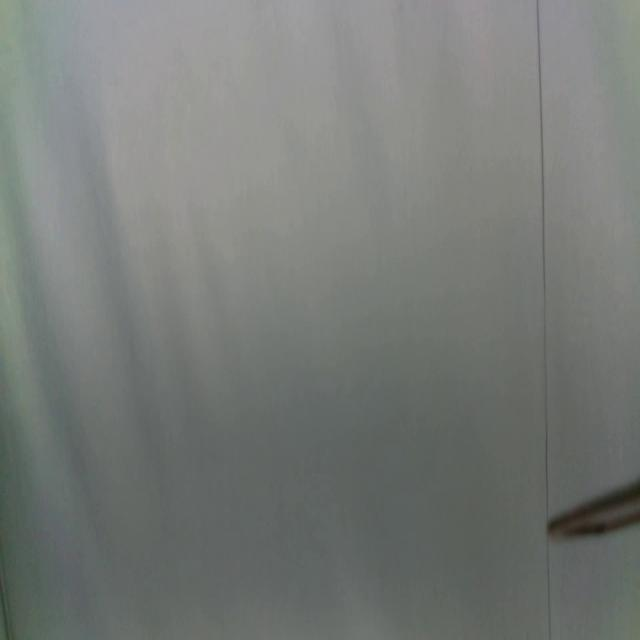crease: (534, 0, 556, 640)
